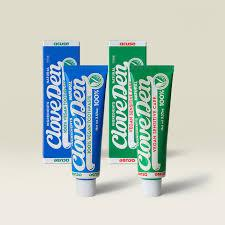toothpaste: (120, 62, 176, 200), (62, 61, 104, 200)
